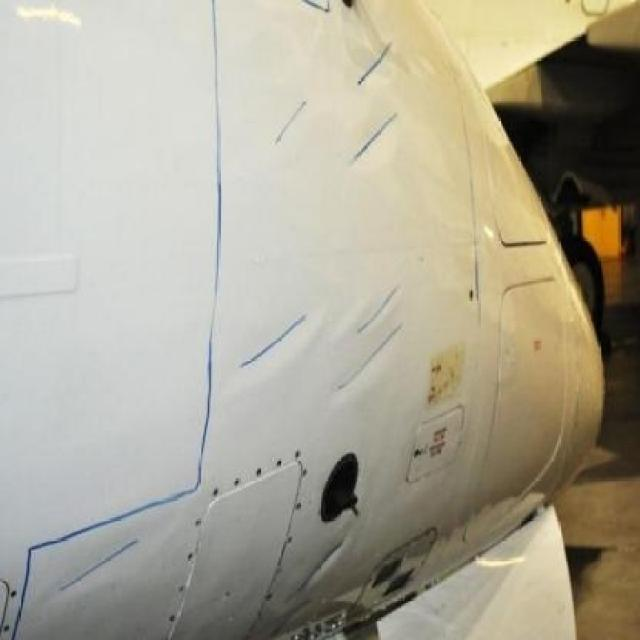dent: (58, 541, 146, 594), (337, 329, 403, 391), (292, 544, 352, 600), (241, 323, 306, 369), (356, 289, 398, 337), (347, 118, 395, 160), (359, 47, 395, 83), (280, 103, 305, 140)
